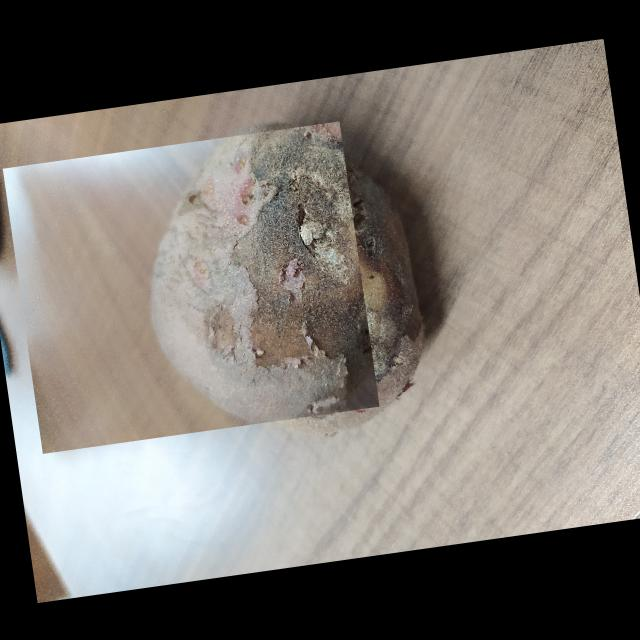Damaged potato: (1, 120, 378, 453)
